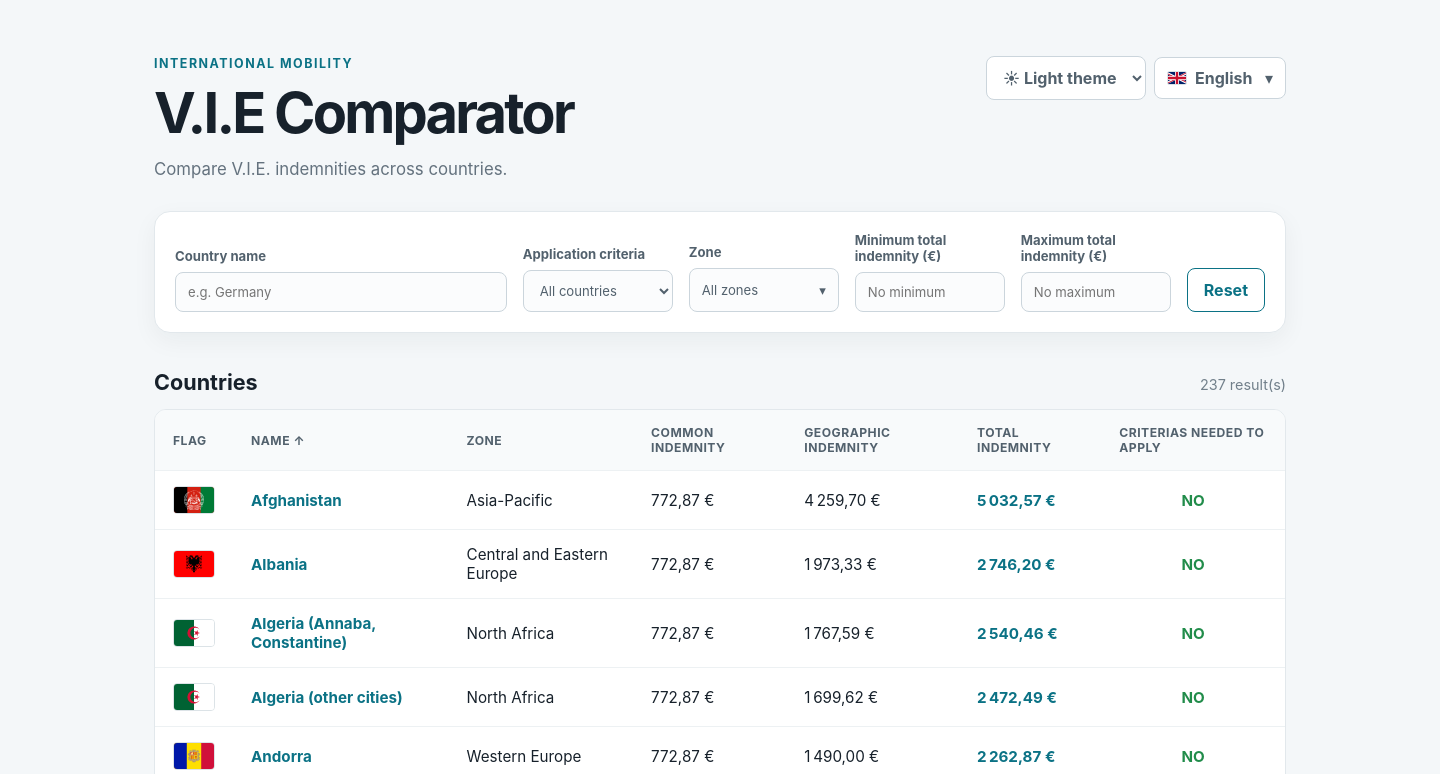
Integration tests: V.I.E Comparator › switches between English and French
Click the button with test id "language-selector" at (1220, 78), box x1=1154 y1=57 x2=1286 y2=99
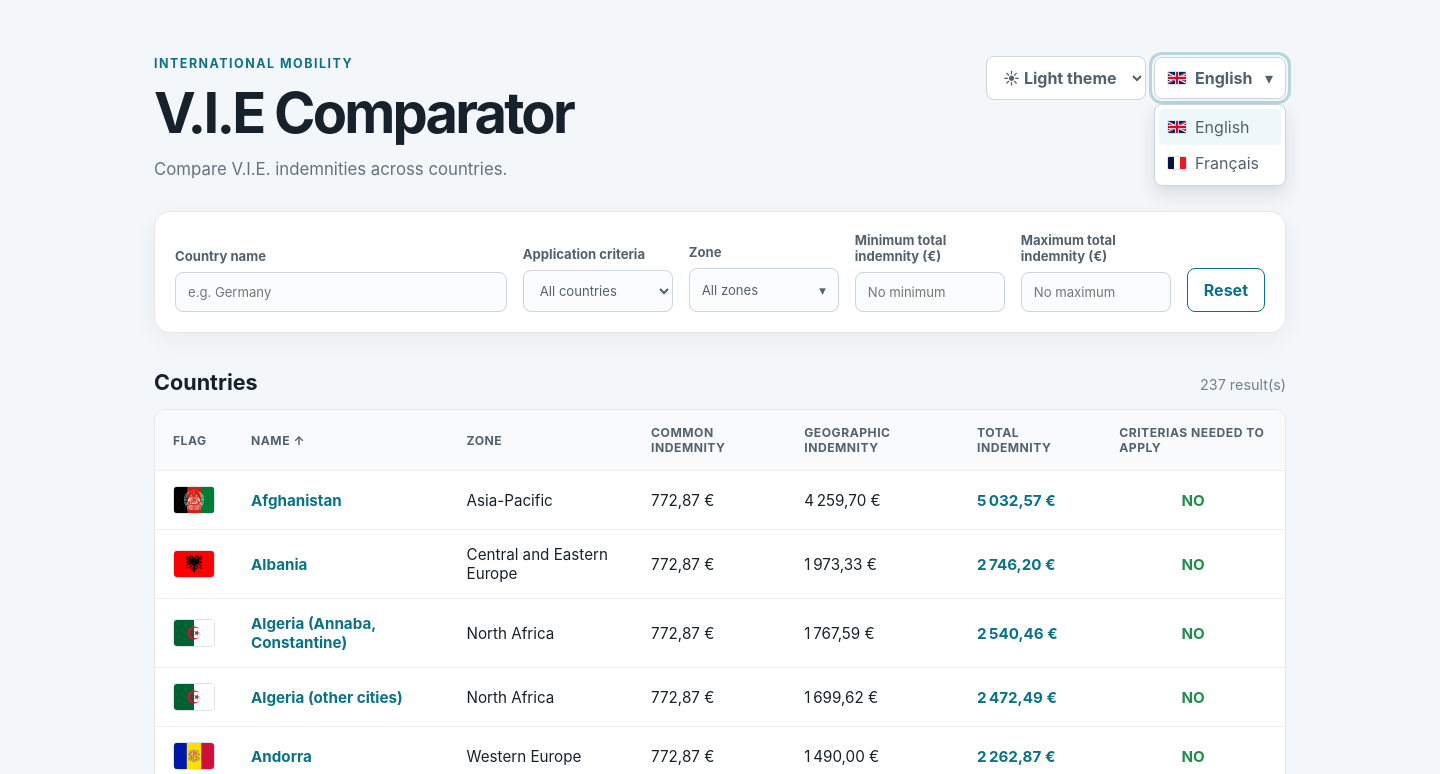
Click the option with test id "language-option-fr" at (1220, 163), box x1=1159 y1=145 x2=1281 y2=181
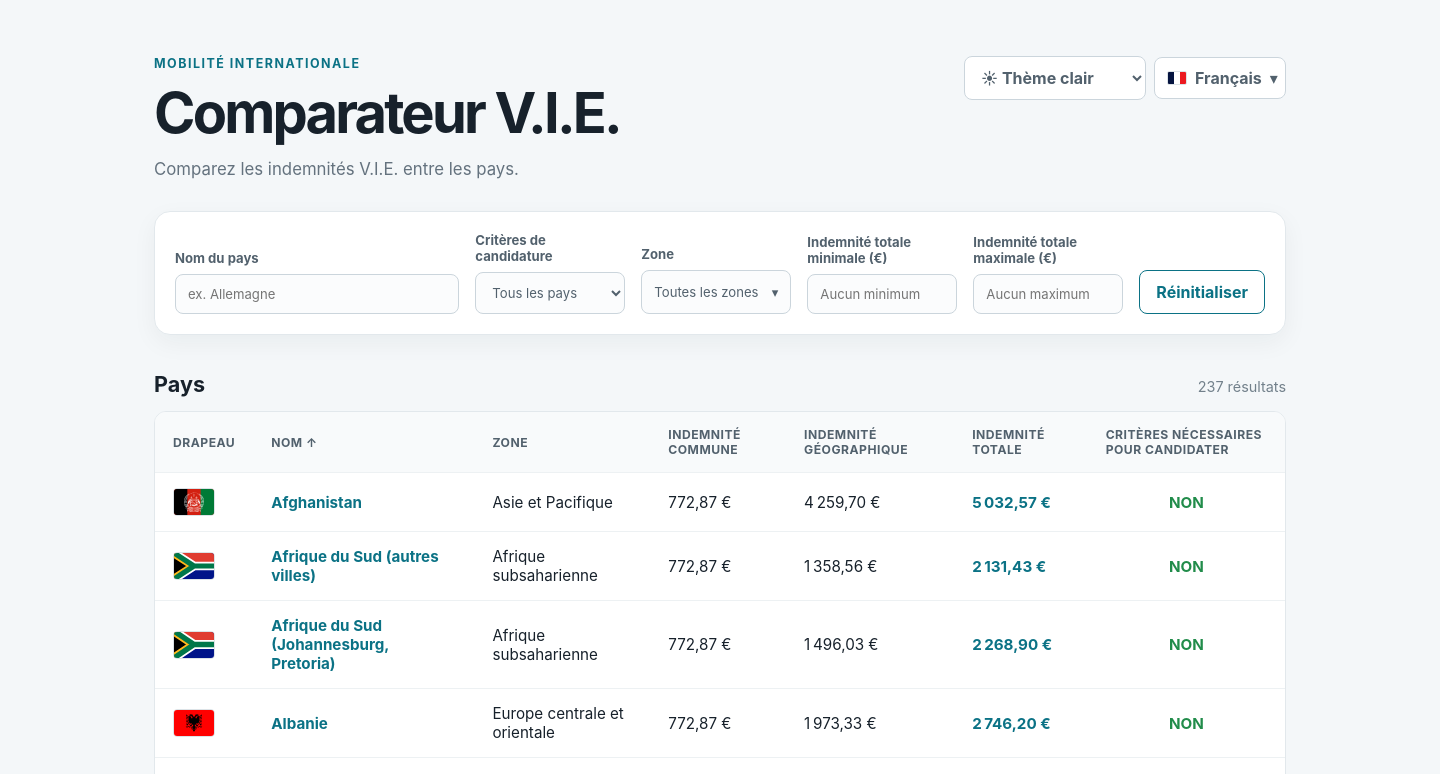
Expected: the search field labelled "Nom du pays" is shown, x1=175 y1=274 x2=459 y2=314
Expected: the heading "Comparateur V.I.E." is shown, x1=154 y1=79 x2=620 y2=147
Expected: the button with test id "language-selector" shows "Français", x1=1154 y1=57 x2=1286 y2=99
